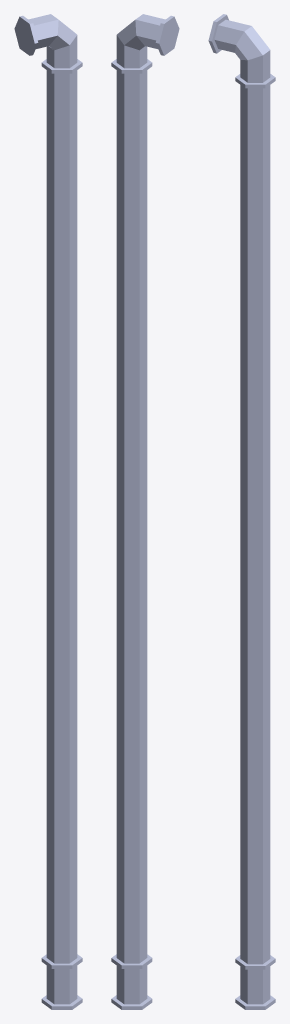
Rendered from Lead_Pipe_UV.FBX.
The picture shows the model from 3 angles, left to right: view 1: azimuth 30°, elevation 25°; view 2: azimuth 150°, elevation 25°; view 3: azimuth 330°, elevation 25°; orthographic projection.
Parts seen in each view (by area): view 1: Boss-Extrude6; view 2: Boss-Extrude6; view 3: Boss-Extrude6.
Part boxes in pixels (x1=…): Boss-Extrude6: x1=14, y1=14, x2=82, y2=1009; Boss-Extrude6: x1=111, y1=14, x2=179, y2=1009; Boss-Extrude6: x1=208, y1=14, x2=275, y2=1009.
Size of the model in its own units: 1.49 by 26.69 by 1.
